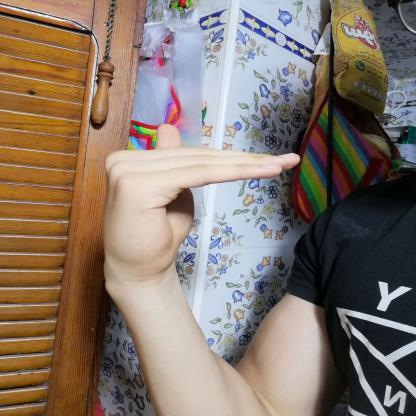KHAA: (86, 110, 317, 301)
